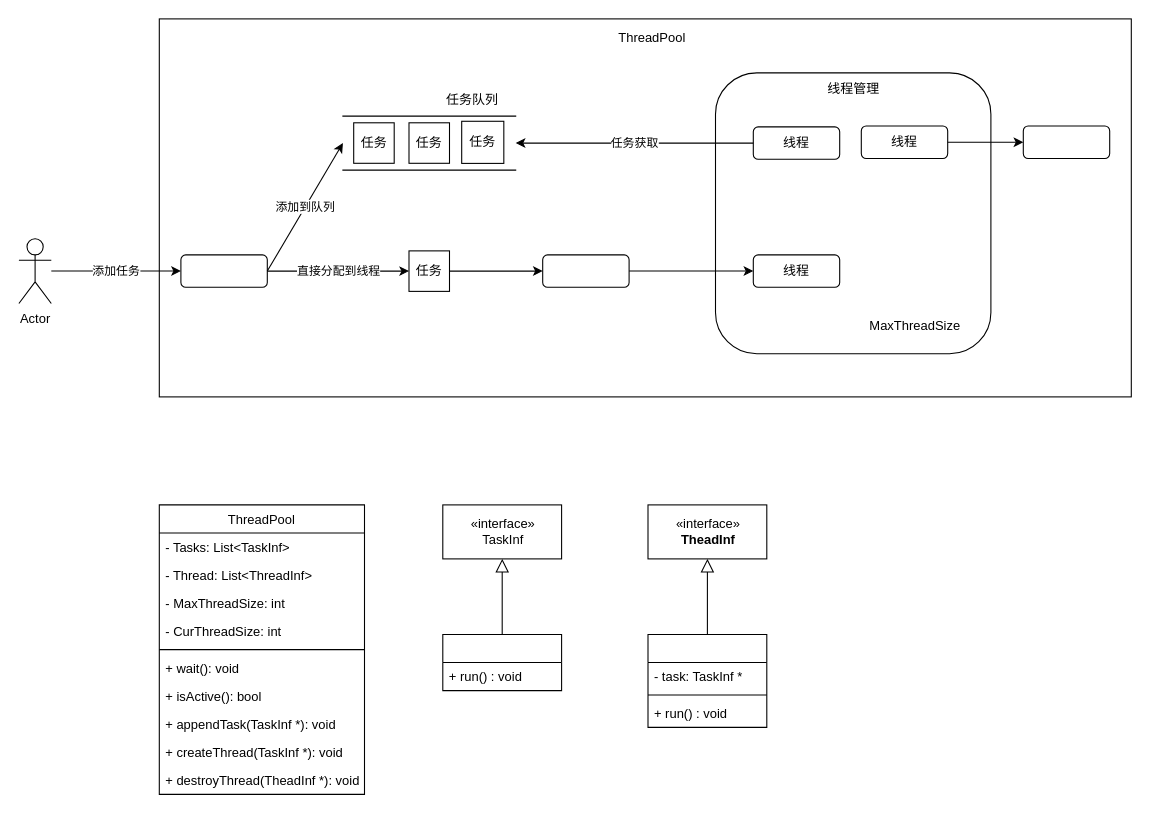
Some shapes in this 1150 by 816 pixel diagram are drawn without their labels. The shapes that lost their labels are listed below. From the top down, each one's box as (x1, y1, x2, y2) in pixels, then its label:
(1022, 125, 1110, 158): 线程回收
(180, 254, 267, 287): 任务分配
(542, 254, 629, 287): 线程分配
(442, 633, 562, 691): TaskImp
(647, 633, 767, 727): TheadImf
